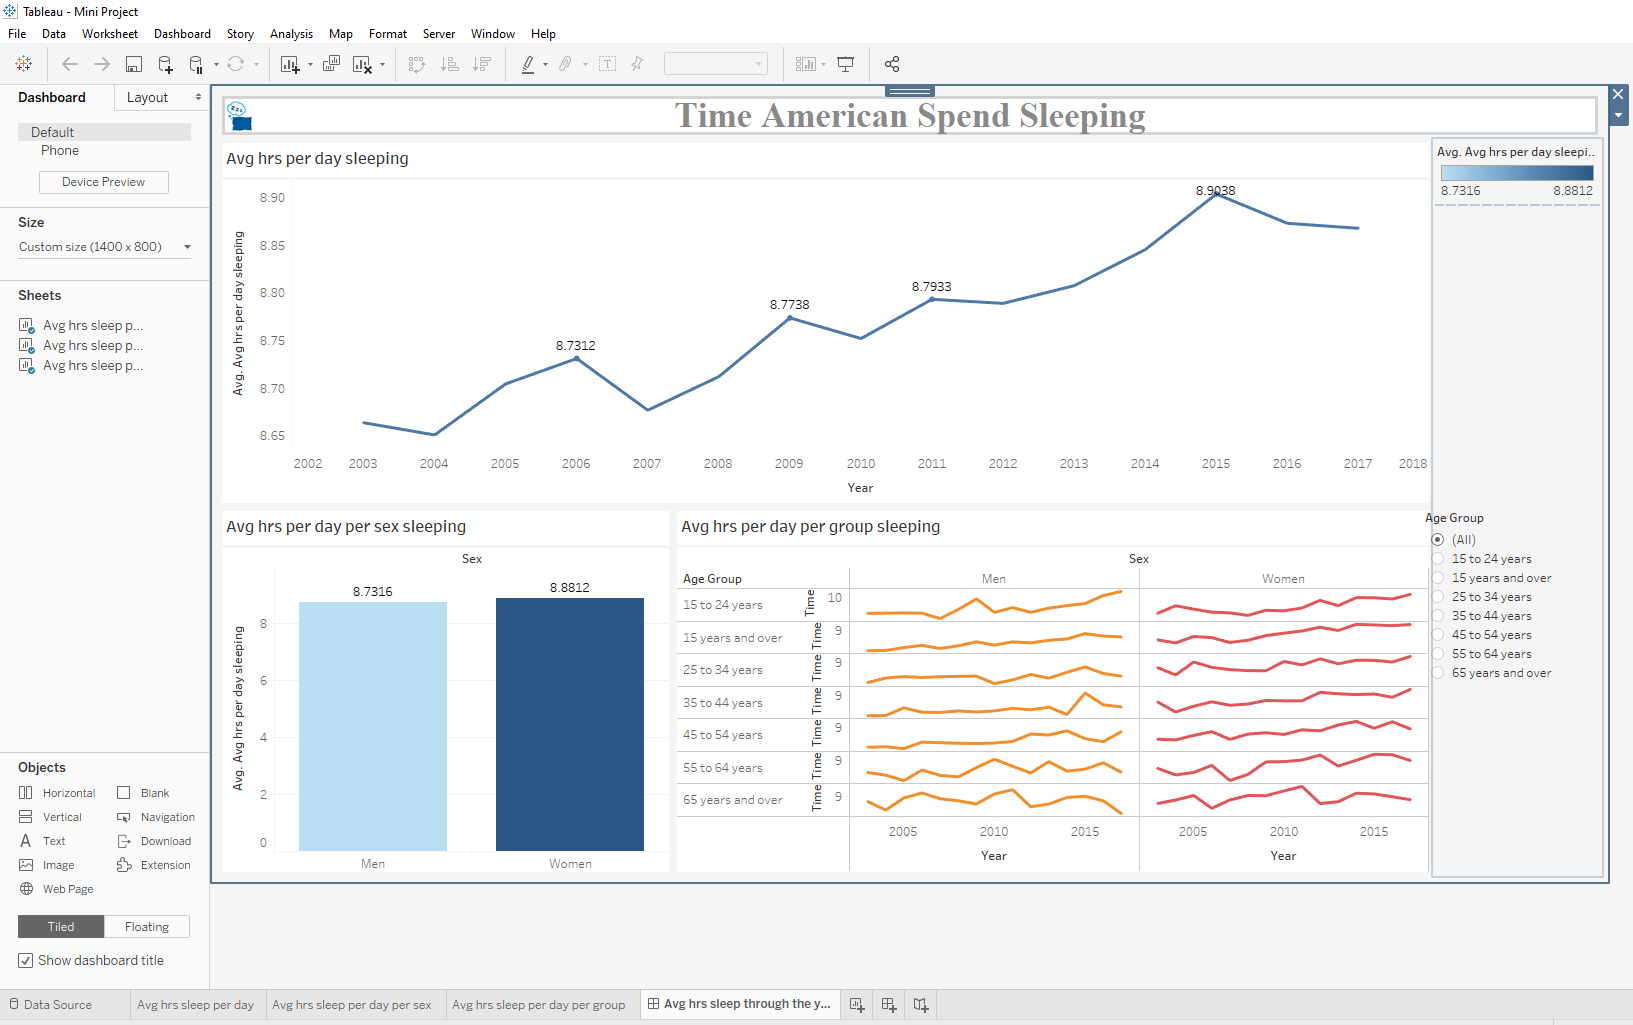

The page's visual inventory and layout, read from the dashboard file:
{"tool":"tableau","page":{"name":"Avg hrs sleep through the years","canvas":[1400,800],"ordinal":0},"visuals":[{"type":"worksheet","box":[0,0,1400,800]},{"type":"worksheet","param":"vert","box":[8,8,1384,784]},{"type":"worksheet","box":[8,8,1384,47]},{"type":"worksheet","param":"C:/Users/Abraham/Desktop/al.jfif","box":[15.1,16,54.9,31]},{"type":"worksheet","param":"horz","box":[8,55,1384,737]},{"type":"worksheet","box":[8,55,1215,737]},{"type":"worksheet","title":"Avg hrs sleep per day","mark":"Automatic","rows":["Avg hrs per day sleeping"],"cols":["Year"],"box":[8,55,1215,368.5]},{"type":"worksheet","param":"vert","box":[1223,55,169,737]},{"type":"worksheet","title":"Avg hrs sleep per day per sex","mark":"Automatic","rows":["Avg hrs per day sleeping"],"cols":["Sex"],"param":"[federated.1rursto1jvx1zu19r82wb14benqb].[avg:Avg hrs per day sleeping:qk]","box":[1223,55,169,65]},{"type":"worksheet","title":"Avg hrs sleep per day per sex","mark":"Automatic","rows":["Avg hrs per day sleeping"],"cols":["Sex"],"box":[8,423.5,454.6,368.5]},{"type":"worksheet","title":"Avg hrs sleep per day per group","mark":"Automatic","rows":["Age Group","Avg hrs per day sleeping"],"cols":["Sex","Year"],"box":[462.6,423.5,760.4,368.5]},{"type":"worksheet","title":"Avg hrs sleep per day per group","mark":"Automatic","rows":["Age Group","Avg hrs per day sleeping"],"cols":["Sex","Year"],"param":"[federated.1rursto1jvx1zu19r82wb14benqb].[none:Age Group:nk]","box":[1214.8,425,180.9,184]}]}

Visuals, with their boxes on the page's 1400x800 design canvas (x1, y1, x2, y2). These are canvas units, not pixel positions in the 1633x1025 screenshot, which may show the page scaled, cropped or inside an application window:
worksheet: (0,0,1400,800)
worksheet: (8,8,1392,792)
worksheet: (8,8,1392,55)
worksheet: (15,16,70,47)
worksheet: (8,55,1392,792)
worksheet: (8,55,1223,792)
"Avg hrs sleep per day" worksheet: (8,55,1223,424)
worksheet: (1223,55,1392,792)
"Avg hrs sleep per day per sex" worksheet: (1223,55,1392,120)
"Avg hrs sleep per day per sex" worksheet: (8,424,463,792)
"Avg hrs sleep per day per group" worksheet: (463,424,1223,792)
"Avg hrs sleep per day per group" worksheet: (1215,425,1396,609)
